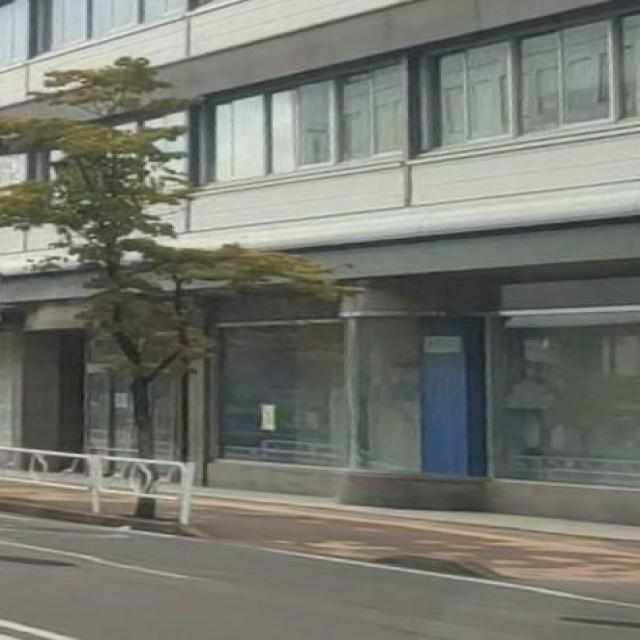dogwood: (0, 53, 374, 521)
